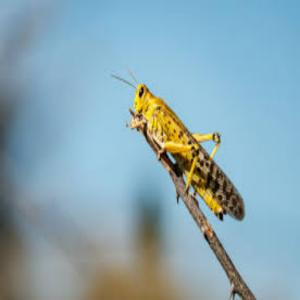locust: (117, 71, 250, 222)
